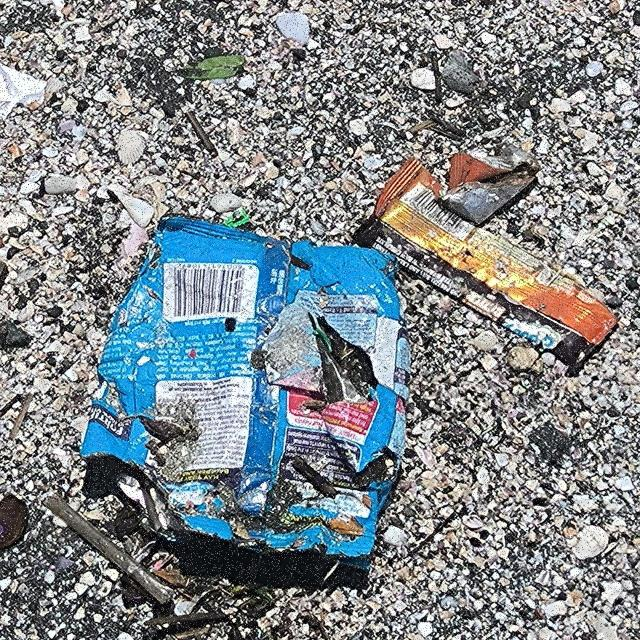plastic_waste: (79, 214, 413, 573), (356, 152, 625, 369)
